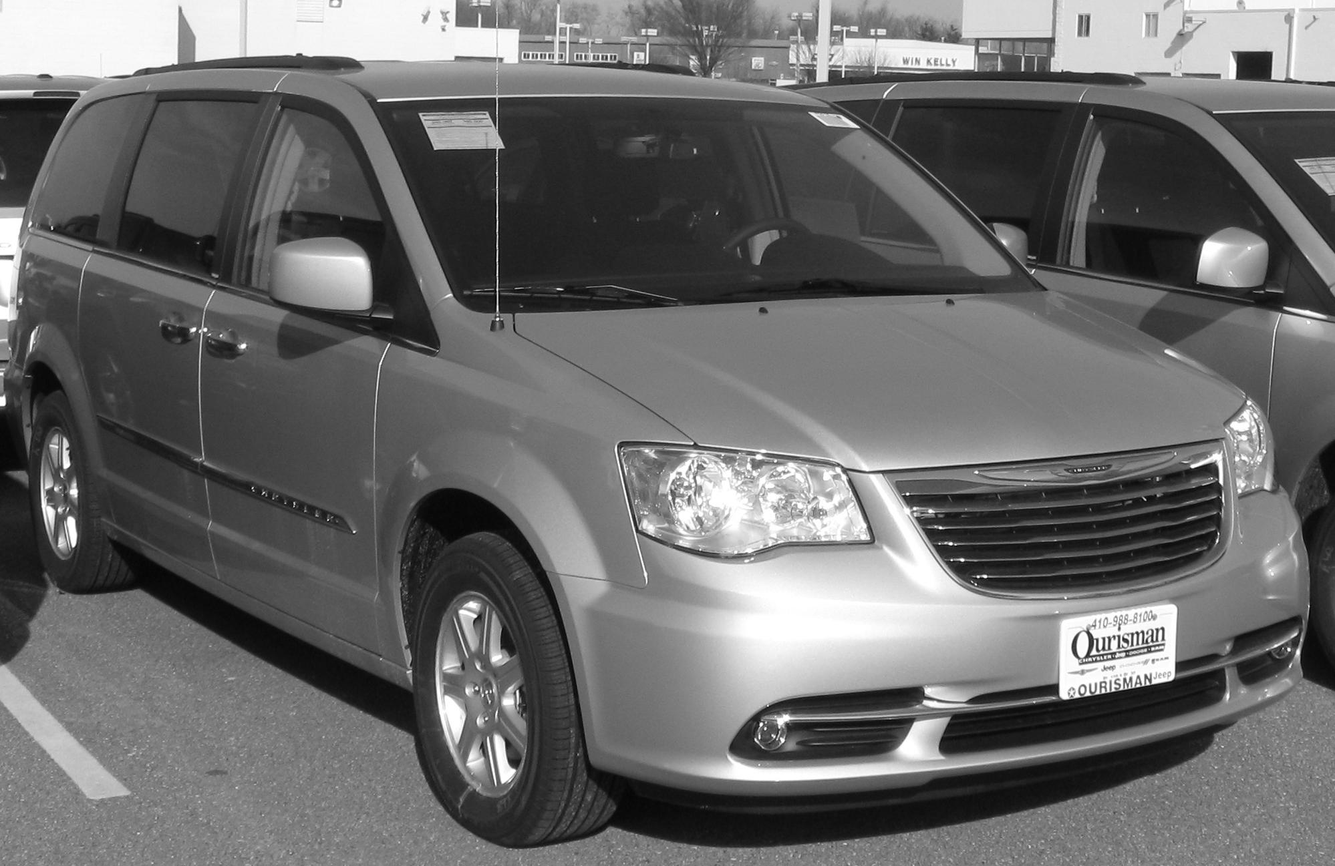car: (7, 63, 1311, 842)
